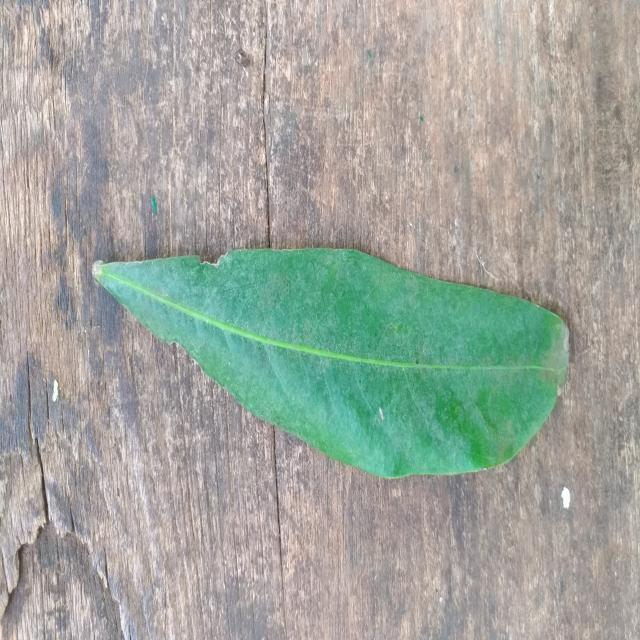seethaashoka: (92, 249, 569, 478)
